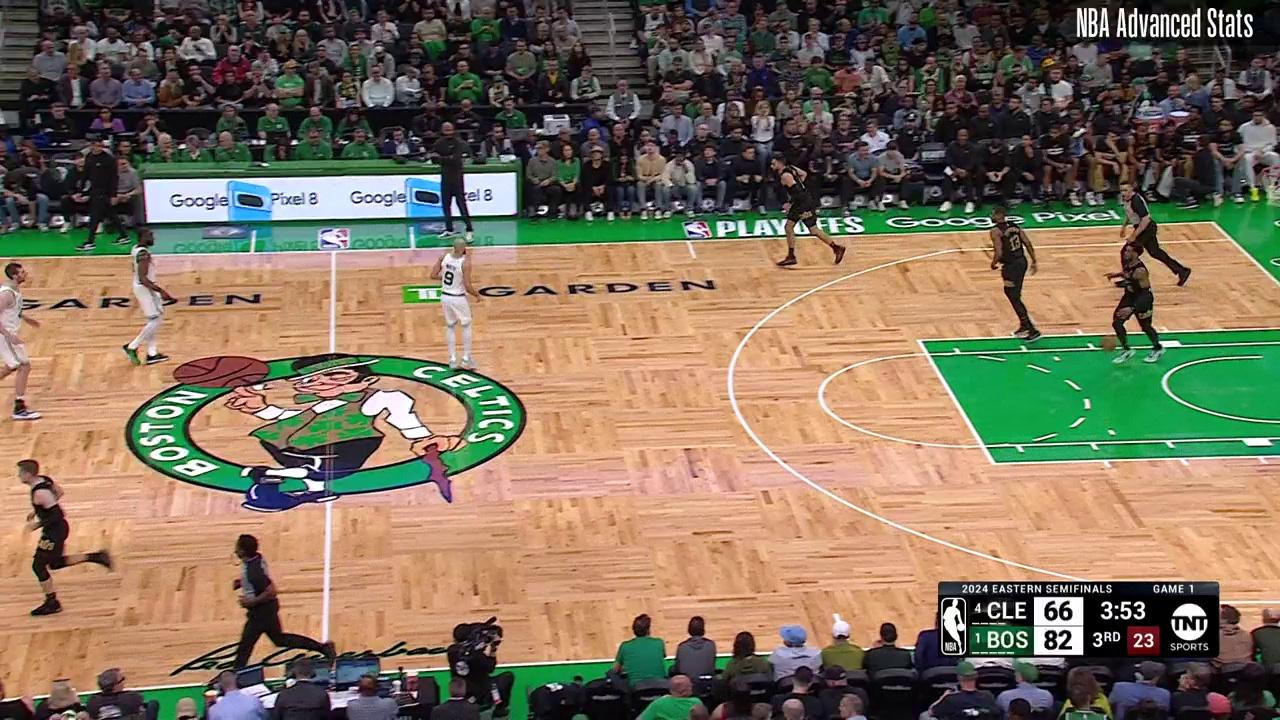b_sx: (1207, 215, 1219, 228)
free_adx: (988, 457, 1001, 468)
free_asx: (914, 334, 925, 345)
half_sx: (328, 246, 341, 257)
mid_dx: (830, 609, 841, 619)
mid_sx: (689, 252, 700, 262)
referee: (229, 536, 332, 674), (1118, 181, 1193, 291)
team: (0, 262, 43, 426), (124, 228, 174, 365), (434, 237, 479, 371)
team1: (14, 460, 113, 610), (770, 161, 851, 268), (986, 210, 1046, 341), (1113, 241, 1164, 362)
timer: (1093, 597, 1150, 623)
